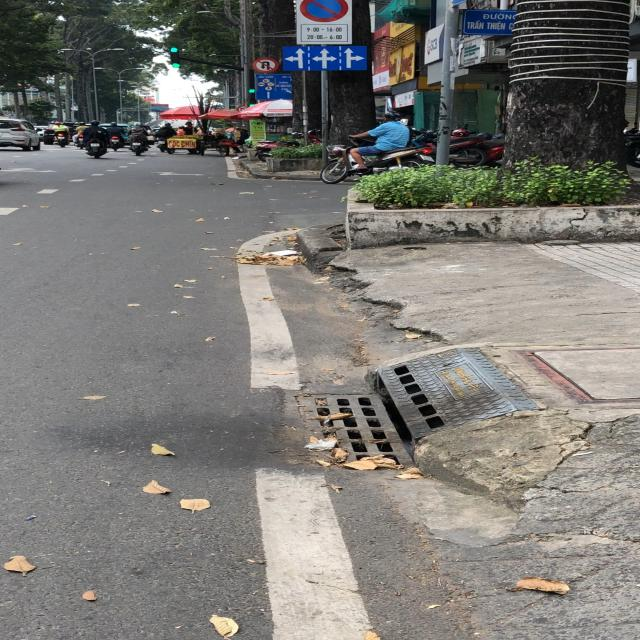Bien bao cam do xe: (294, 0, 355, 24)
Bien bao cam quay dau xe: (250, 54, 286, 75)
